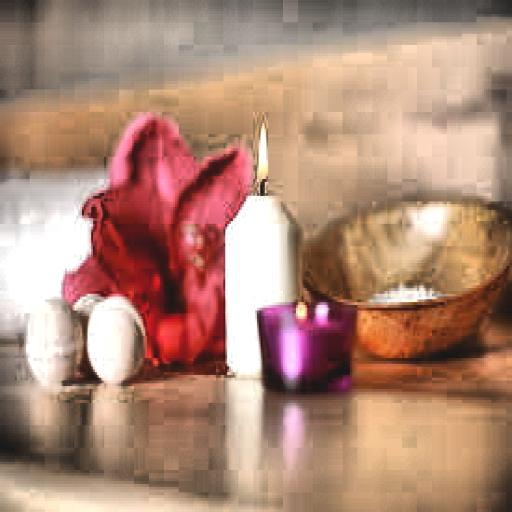fire: (252, 115, 280, 190)
